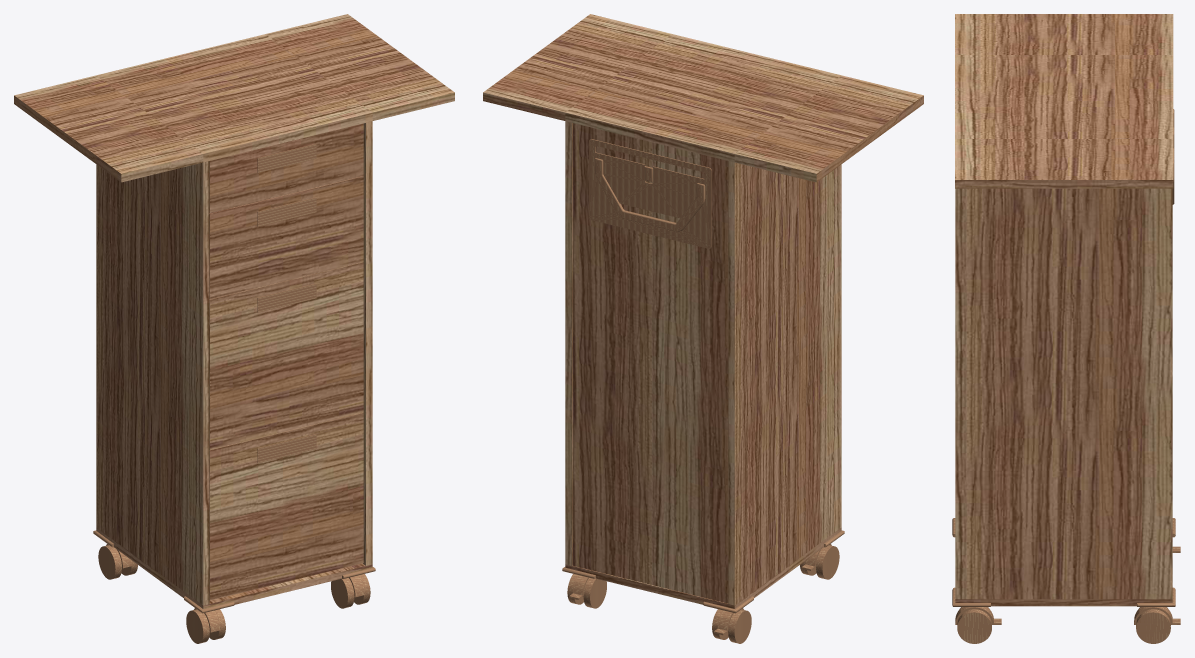
Rendered from catering_cabinet_mini_drawer_scallop_handle_finala.fbx.
3 views of the same model, side by side, from view 1: azimuth 30°, elevation 25°; view 2: azimuth 150°, elevation 25°; view 3: azimuth 270°, elevation 25° (orthographic).
Parts seen in each view (by area): view 1: drewno_mesh (×4), obudowa_mesh, blat_mesh, metal_mesh (×4), kolka_mesh; view 2: obudowa_mesh, blat_mesh, metal_mesh, kolka_mesh; view 3: obudowa_mesh, blat_mesh, kolka_mesh.
Part boxes in pixels (bbox=[...]): drewno_mesh (×4): bbox=[209, 123, 363, 600]; obudowa_mesh: bbox=[96, 121, 372, 608]; blat_mesh: bbox=[14, 14, 454, 182]; metal_mesh (×4): bbox=[257, 143, 316, 462]; kolka_mesh: bbox=[93, 530, 375, 643]; obudowa_mesh: bbox=[565, 121, 841, 608]; blat_mesh: bbox=[483, 14, 923, 182]; metal_mesh: bbox=[589, 139, 711, 248]; kolka_mesh: bbox=[562, 530, 844, 643]; obudowa_mesh: bbox=[955, 188, 1172, 606]; blat_mesh: bbox=[955, 14, 1173, 188]; kolka_mesh: bbox=[952, 518, 1180, 643].
Size of the model in its own units: 81.2 by 115 by 47.2.
